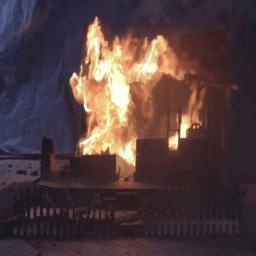fire: (71, 4, 212, 159)
